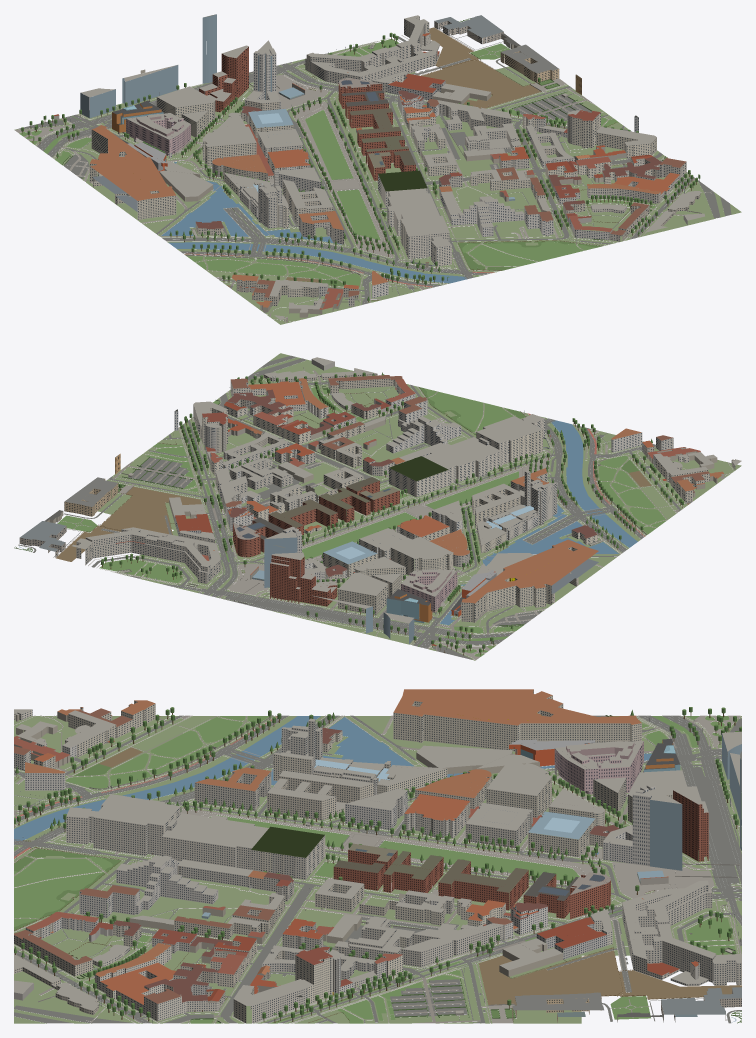
The picture shows the model from 3 angles, top to bottom: view 1: azimuth 30°, elevation 25°; view 2: azimuth 150°, elevation 25°; view 3: azimuth 270°, elevation 25°; orthographic projection. The views are drawn at different scales.
Bounding box in the file's own units: 751 × 103 × 751.
3 materials, 1 textured.
